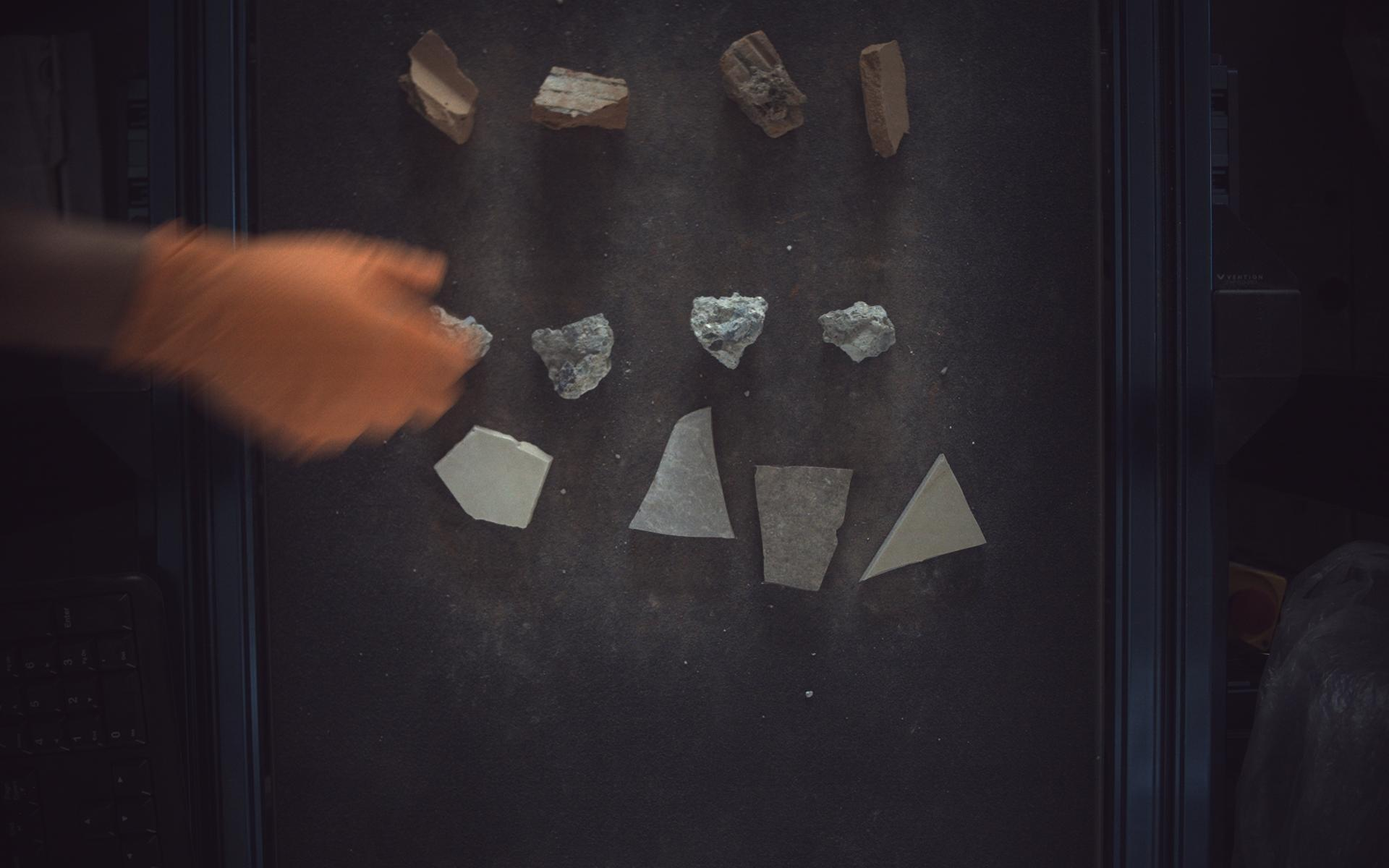brick: (721, 30, 808, 137), (399, 29, 478, 143), (532, 65, 630, 128), (861, 39, 912, 157)
concrete: (533, 313, 615, 399), (692, 292, 770, 369), (820, 301, 897, 362)
tile: (862, 454, 987, 582), (631, 407, 736, 539), (756, 466, 854, 592), (435, 426, 553, 529)
